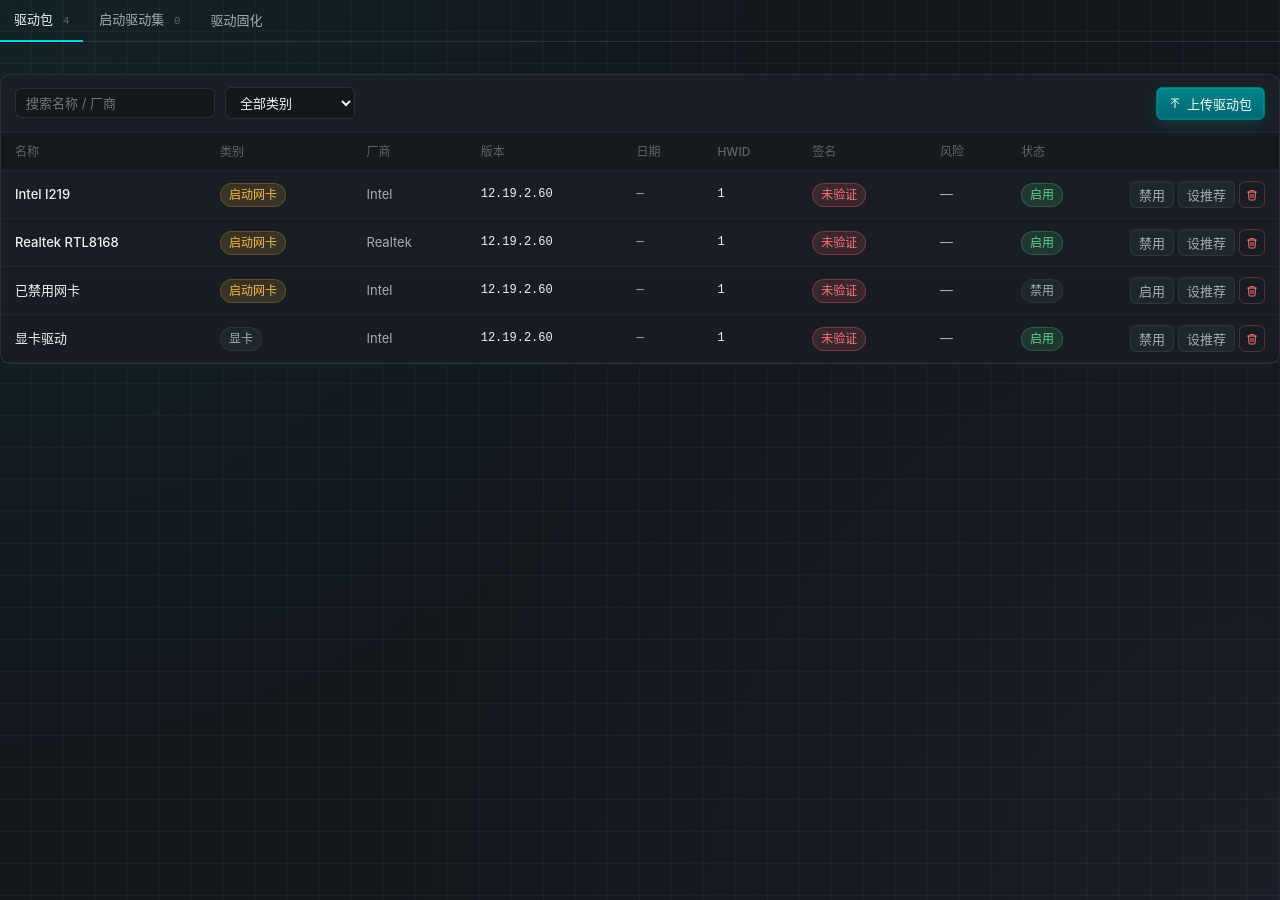
驱动中心 › 组驱动集时只列出启用中的启动网卡包
Expected: the text "Intel I219" is shown, [15,185,70,204]
Note: 驱动组在单独的页签里。
Click the text "启动驱动集 0": coordinates (140, 19) [99,11,181,27]
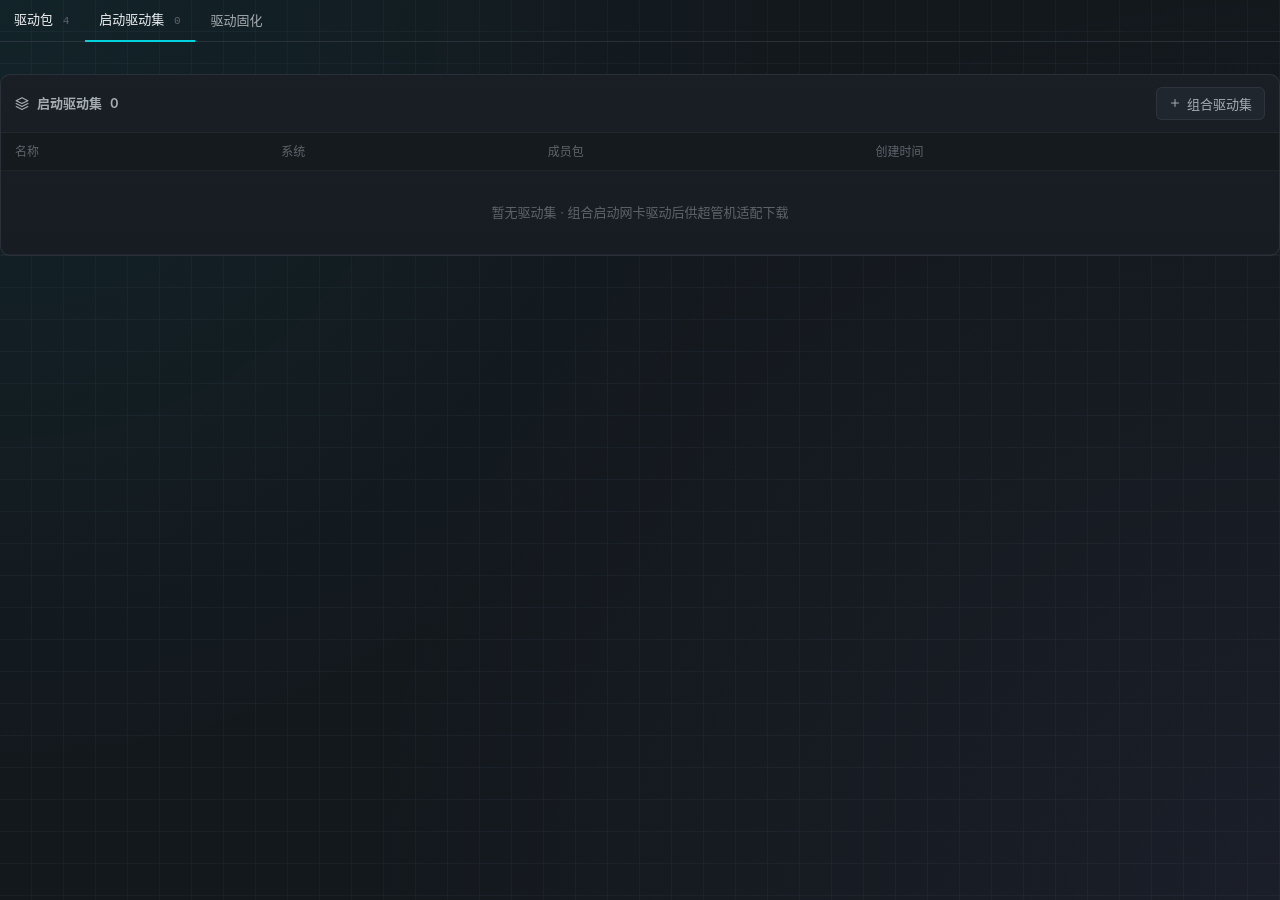
Click the button "组合驱动集": coordinates (1210, 103) [1156,87,1265,120]
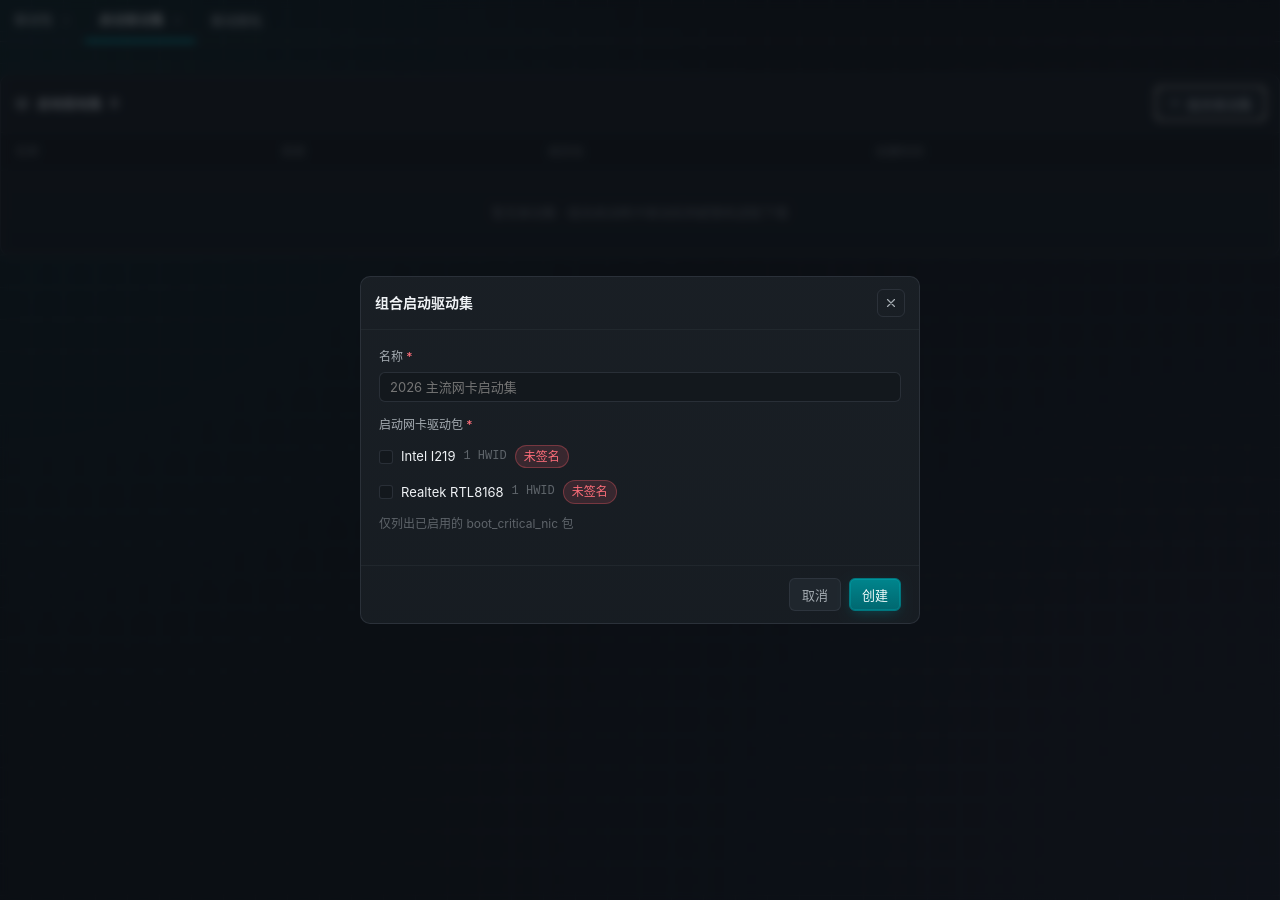
Now the field with placeholder "2026 主流网卡启动集" is shown, box [379,372,901,402]
Now the text "Intel I219" is shown, box [401,447,456,466]
Now the text "Realtek RTL8168" is shown, box [401,483,504,501]
